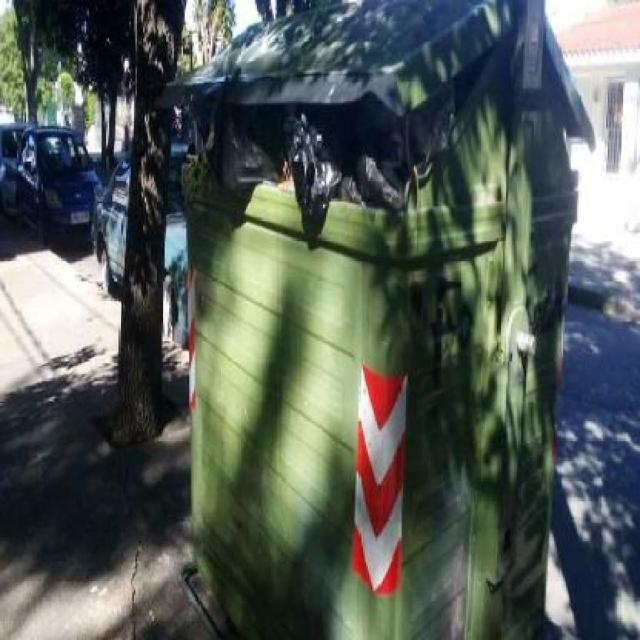garbage: (171, 99, 434, 200)
